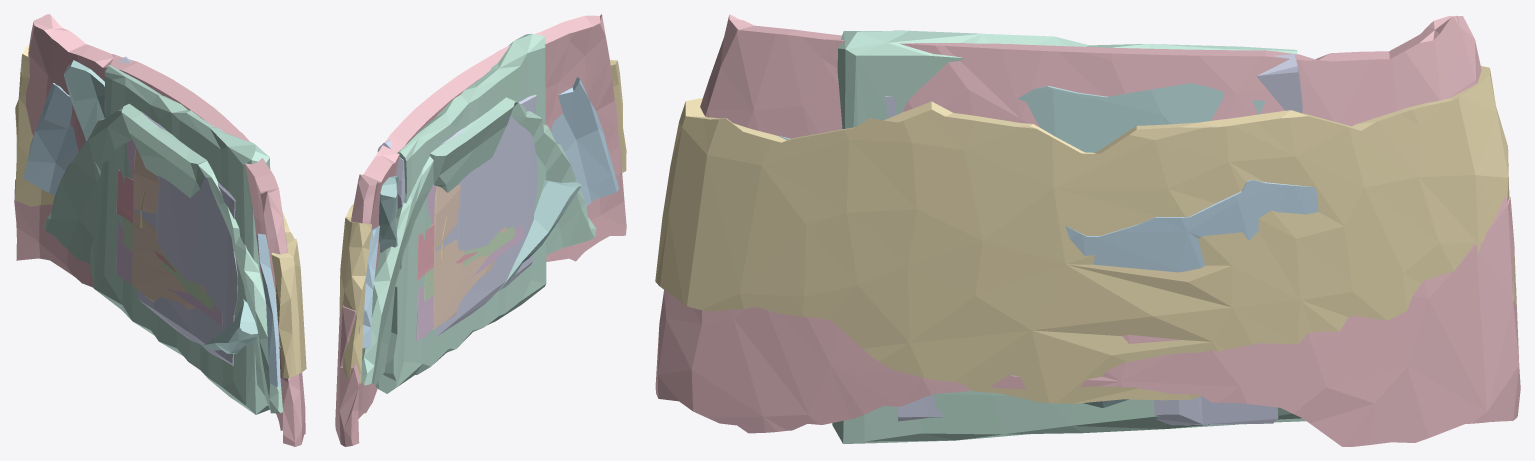
File: view_input_colored.glb
3 views of the same model, side by side, from view 1: azimuth 30°, elevation 25°; view 2: azimuth 150°, elevation 25°; view 3: azimuth 270°, elevation 25° (orthographic). The views are drawn at different scales.
Parts seen in each view (by area): view 1: world; view 2: world; view 3: world.
Part boxes in pixels (x1,y1,x2,y2): world: (14, 14, 306, 446); world: (335, 14, 626, 446); world: (655, 14, 1520, 446).
Size of the model in its own units: 0.0412 by 0.1412 by 0.2698.
